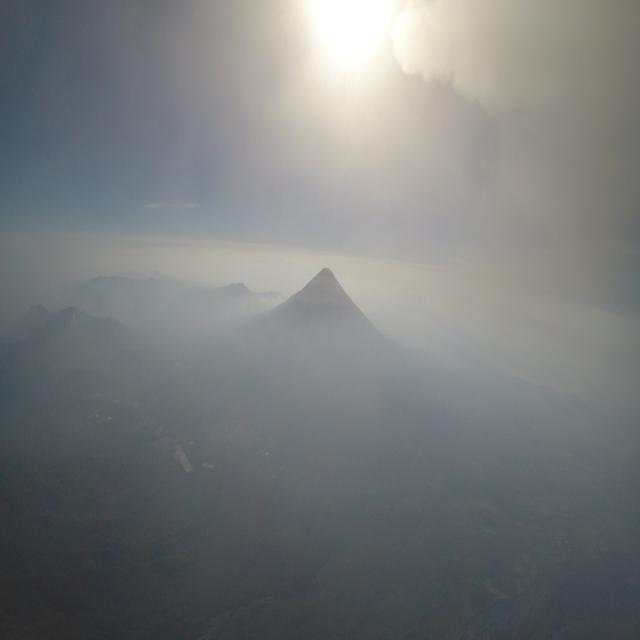Plume: (99, 0, 640, 317)
